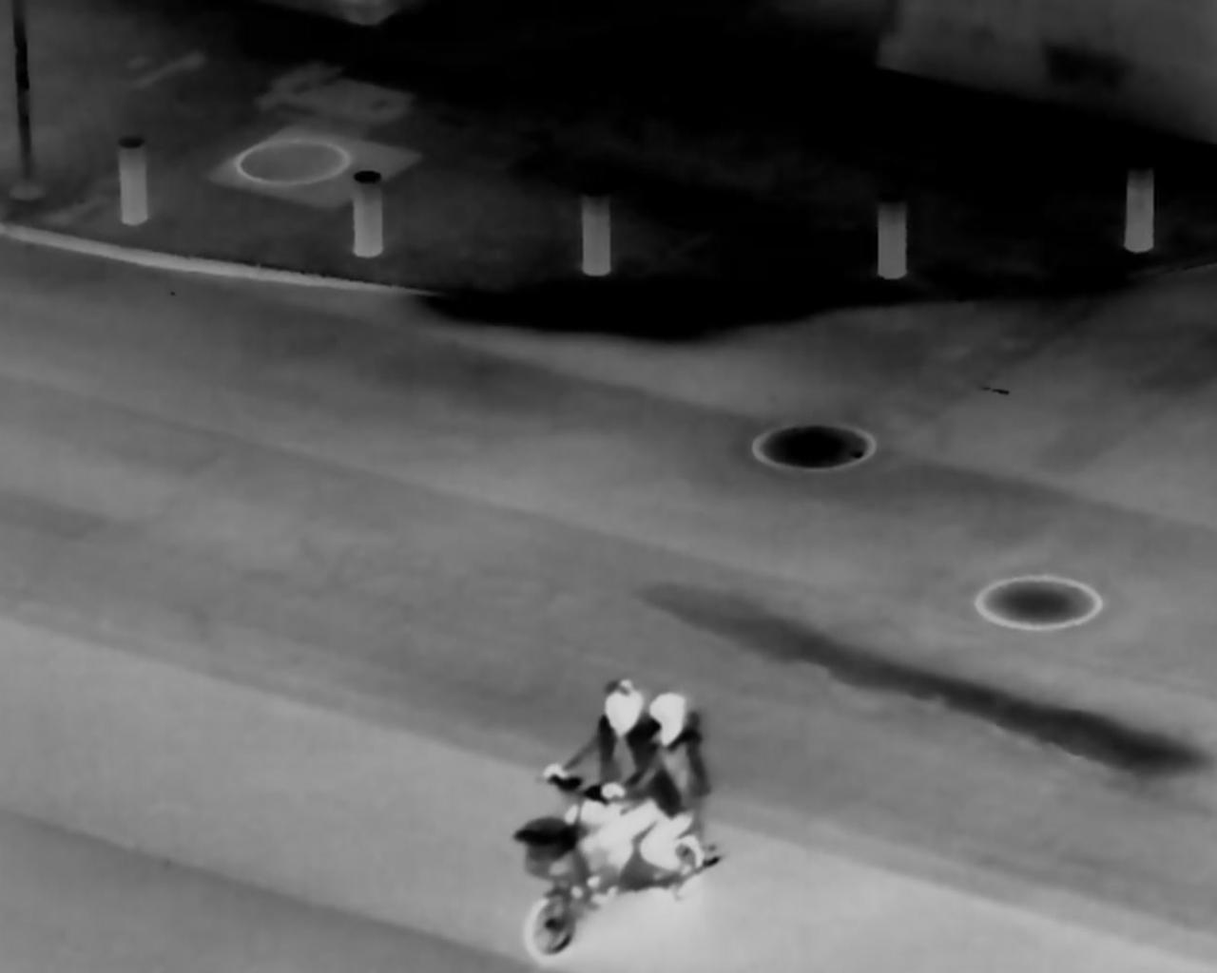person: (559, 663, 662, 884), (642, 684, 709, 879)
